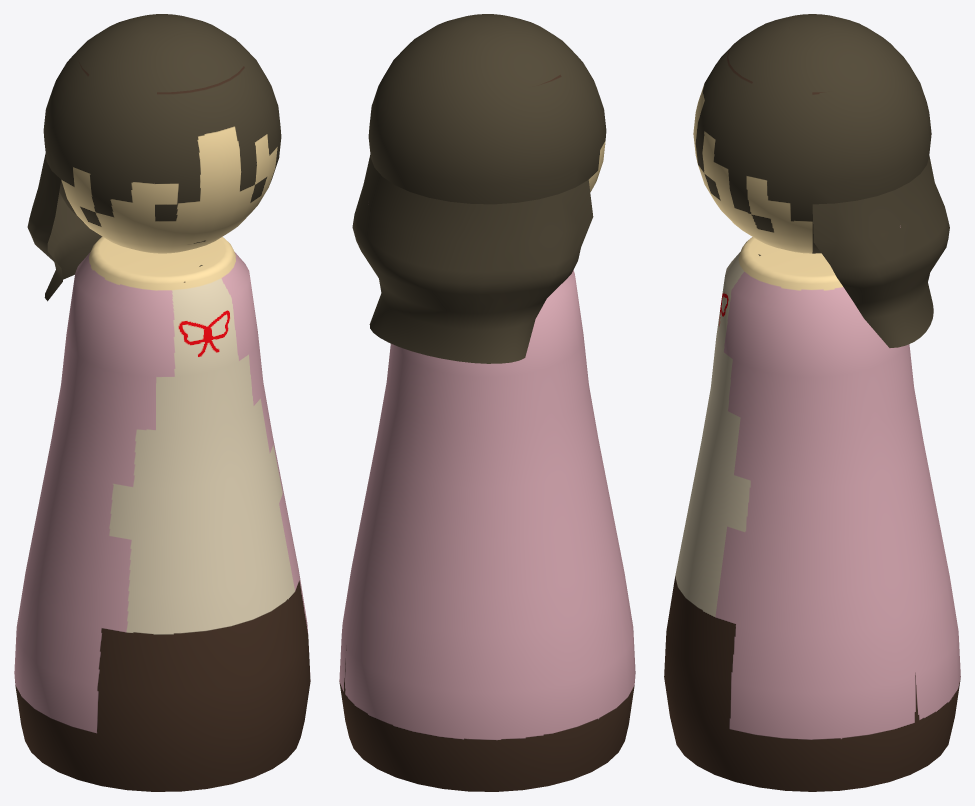
The model's file is npc_Librarian.fbx.
The picture shows the model from 3 angles, left to right: view 1: azimuth 30°, elevation 25°; view 2: azimuth 150°, elevation 25°; view 3: azimuth 270°, elevation 25°; orthographic projection.
Visible parts, largest first — view 1: Player.001; view 2: Player.001; view 3: Player.001.
Part boxes in pixels (<box>): Player.001: <box>14,14,310,791</box>; Player.001: <box>339,14,635,791</box>; Player.001: <box>664,14,960,791</box>.
Bounding box in the file's own units: 0.57 × 1.5 × 0.57.
1 material, 1 textured.
